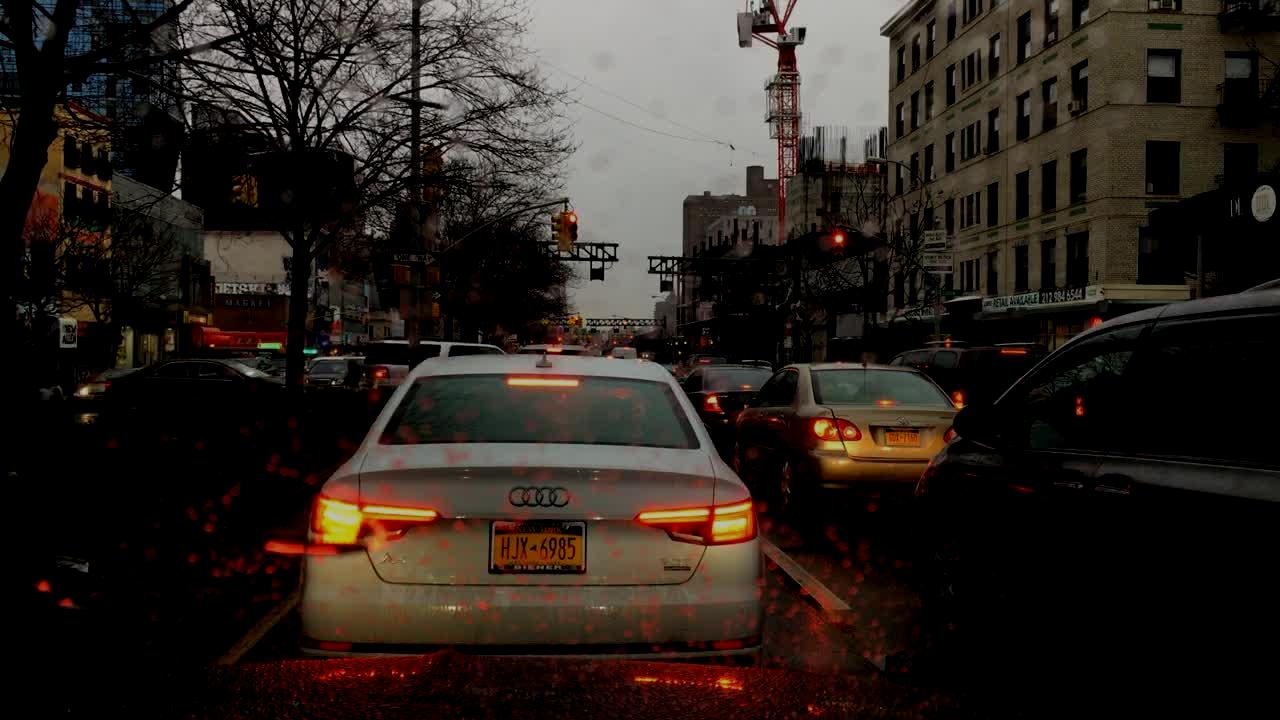Audi: (506, 478, 582, 519)
